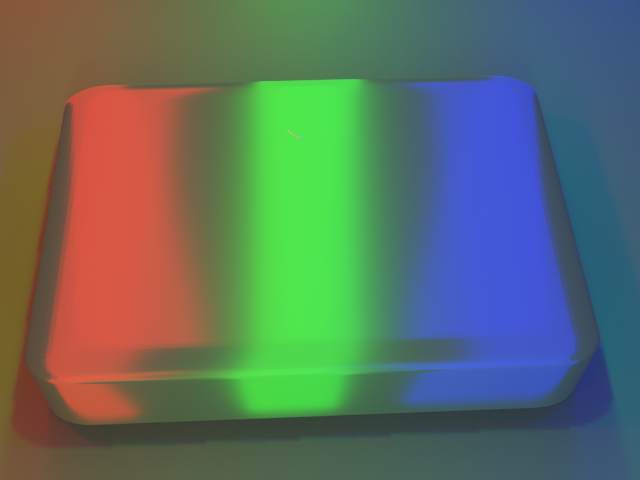scratch: (258, 104, 325, 139)
